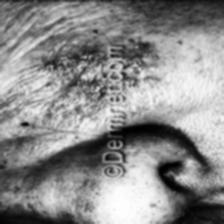Toxin: (38, 40, 106, 114), (128, 36, 160, 104)
